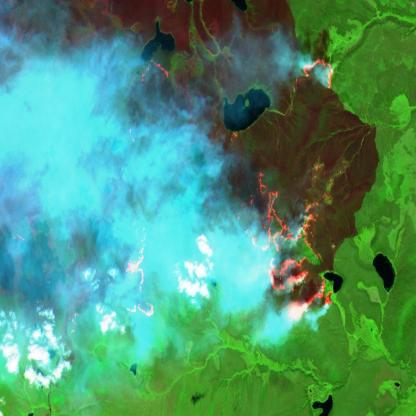fire: (117, 46, 354, 326)
